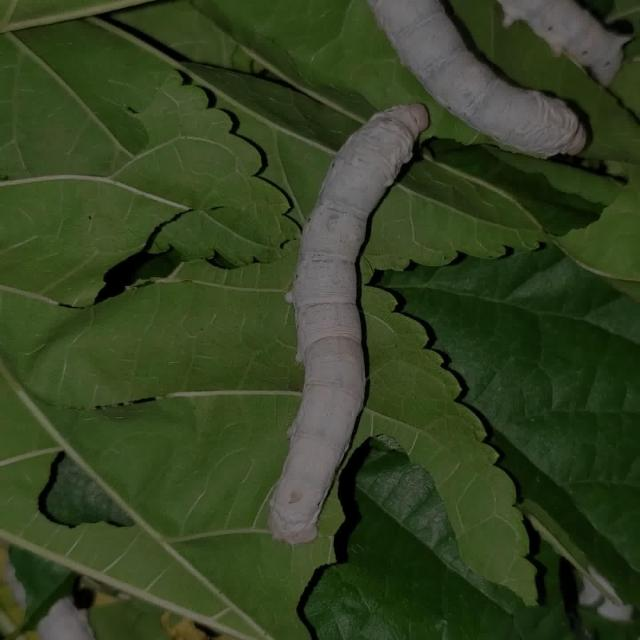Healthy: (243, 92, 473, 566)
